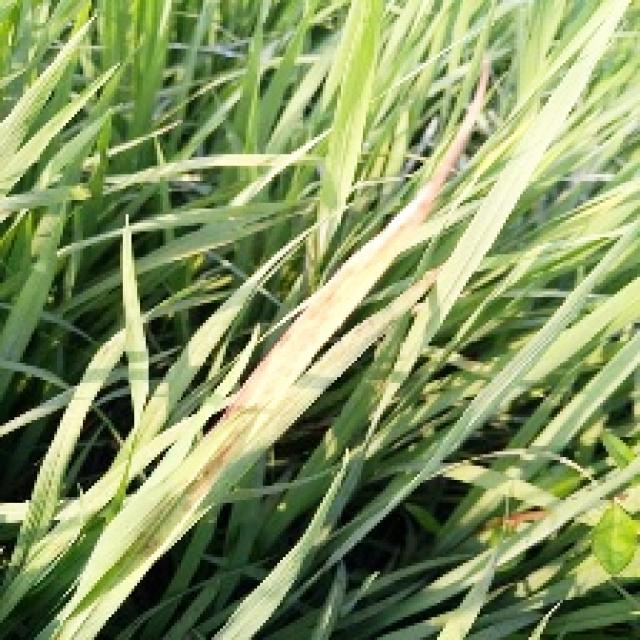health: (483, 217, 640, 443)
